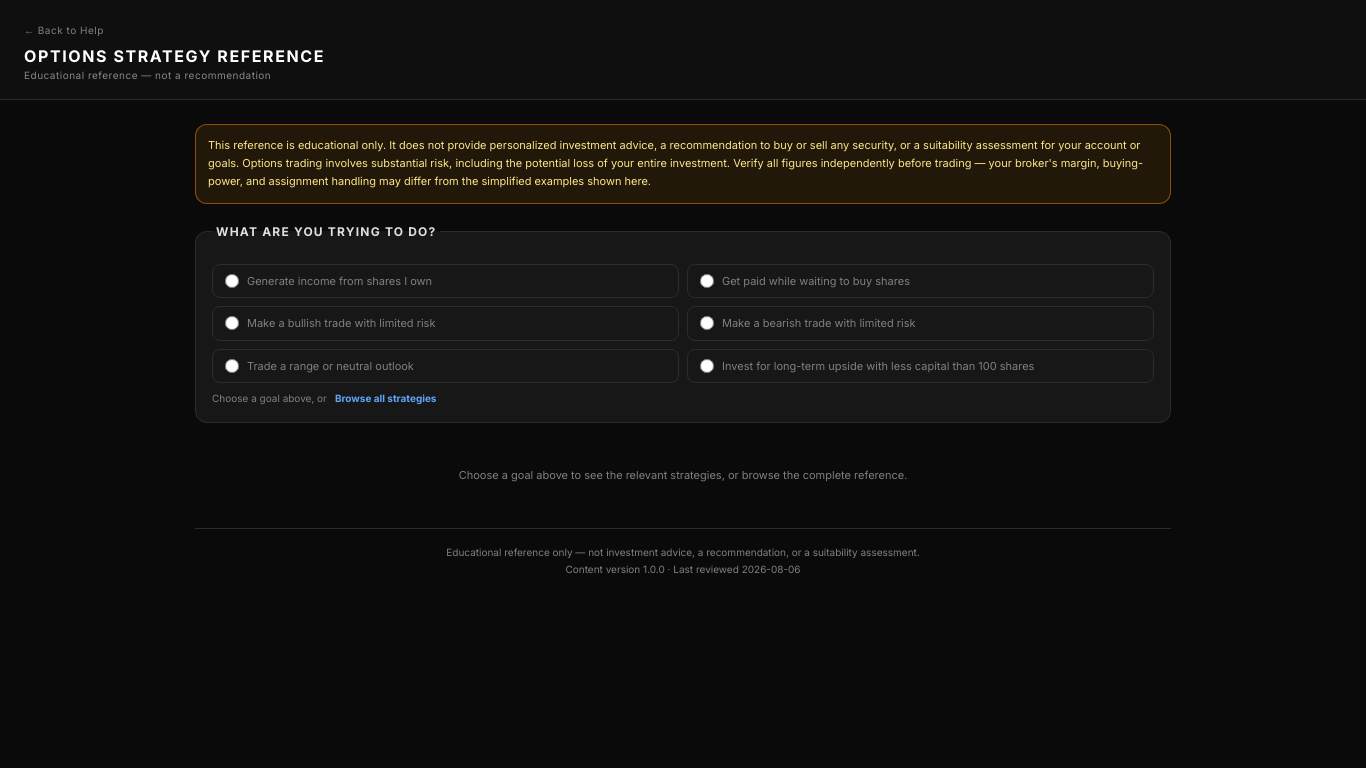
Test: HELP-0001: Options Strategy Reference page › goal-first default / initial state (corrective pass item 5) › activating "Browse all strategies" shows all 8 strategy cards
Click the button "Browse all strategies" at [386, 399], box [335,391,436,406]
(page scrolled)
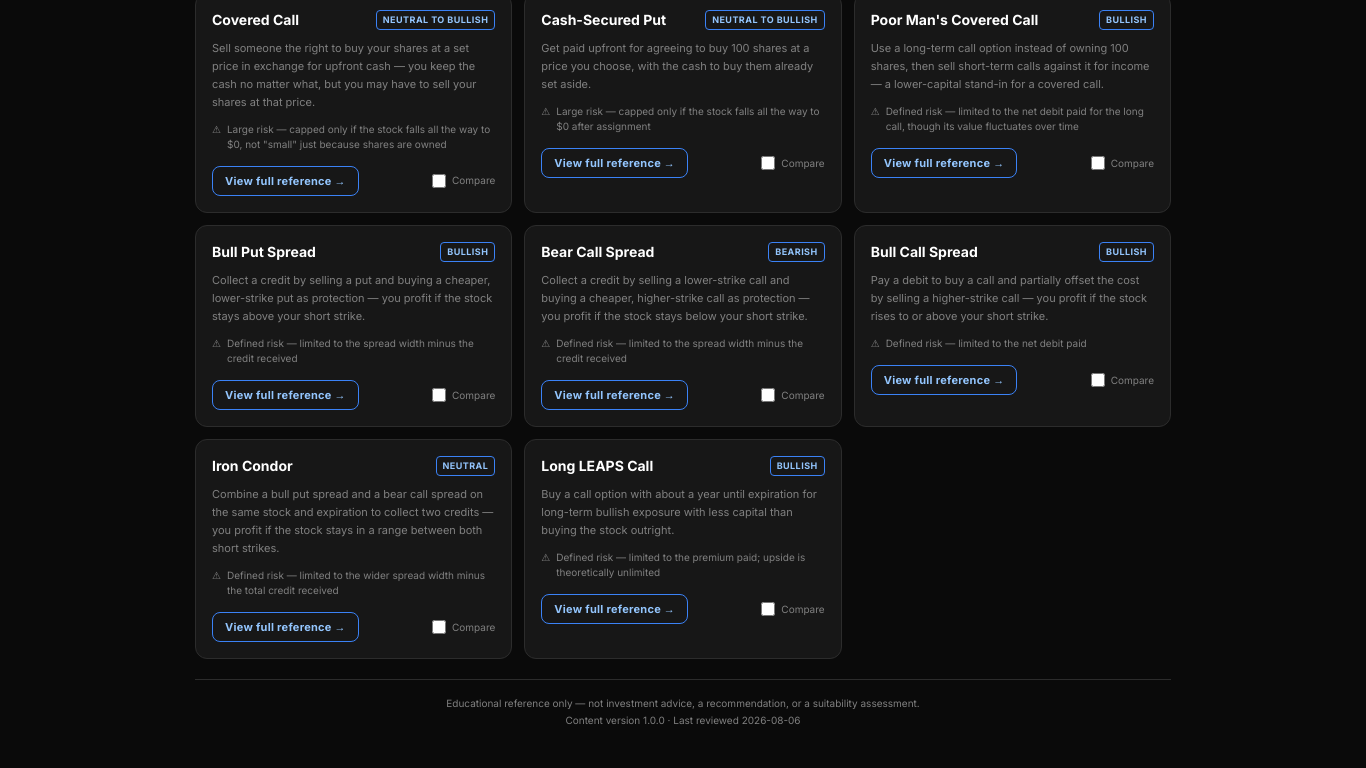
Check: the number of buttons "View full reference →" is 8
Check: the heading "Covered Call" is shown, box [212,10,299,30]
Check: the heading "Cash-Secured Put" is shown, box [541,10,666,30]
